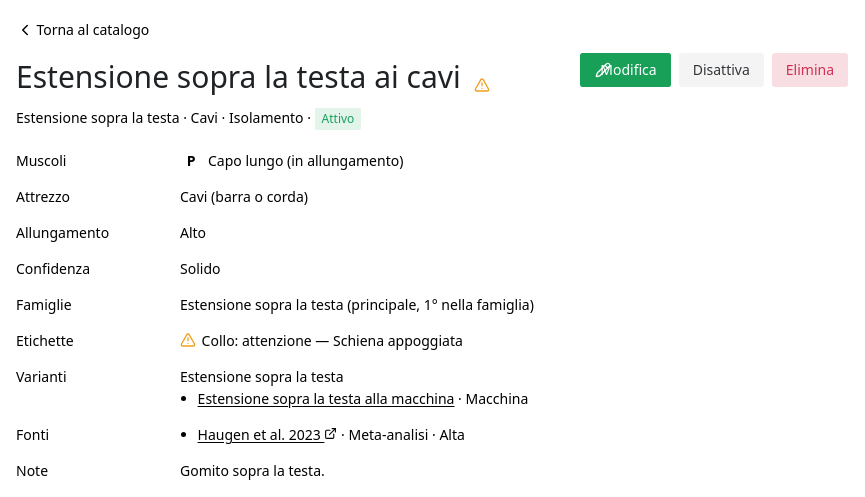
ExerciseDetailPage › azioni (US-05) › disattiva e riattiva con un PUT di tutti i campi
Click the button with test id "toggle-active".
click(721, 70)  # box [679,53,764,87]
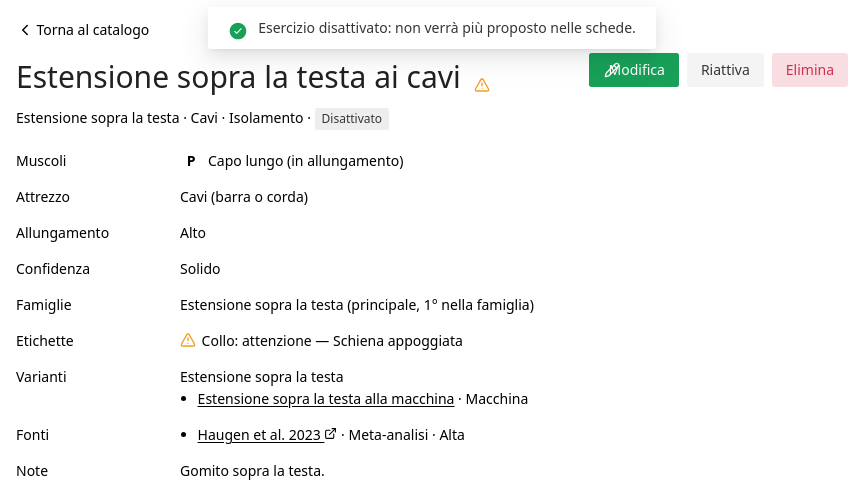
Expected: the element with test id "detail-status" reads "Disattivato", [322,110,382,127]
Expected: the button with test id "toggle-active" reads "Riattiva", [687,53,764,87]
